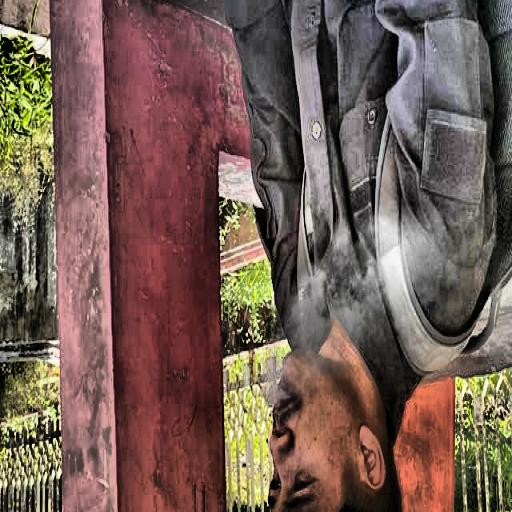Rokok: (267, 286, 388, 512)
